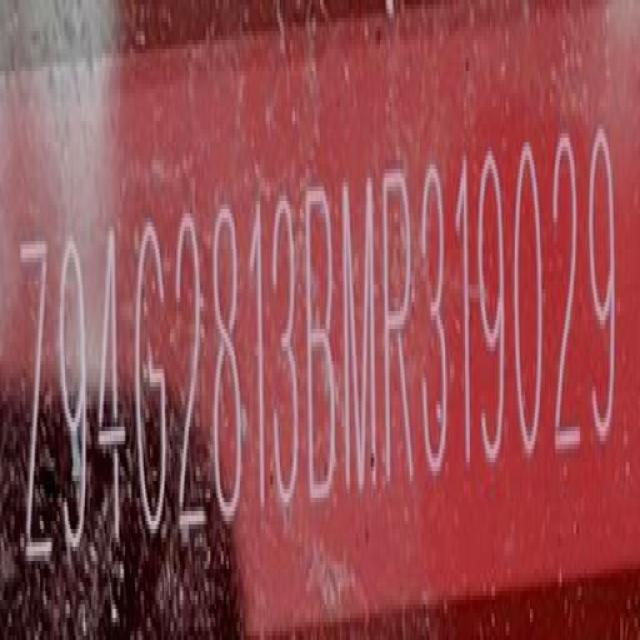0: (512, 135, 545, 469)
1: (250, 192, 270, 523), (456, 165, 476, 474)
2: (175, 208, 209, 543), (552, 129, 582, 465)
3: (421, 160, 449, 484), (273, 188, 300, 515)
4: (95, 226, 128, 562)
8: (211, 198, 243, 531)
9: (56, 233, 88, 570), (589, 126, 620, 457), (478, 147, 508, 472)
B: (303, 178, 338, 504)
G: (134, 216, 166, 553)
M: (344, 173, 380, 501)
R: (385, 166, 417, 493)
Z: (19, 235, 54, 560)
